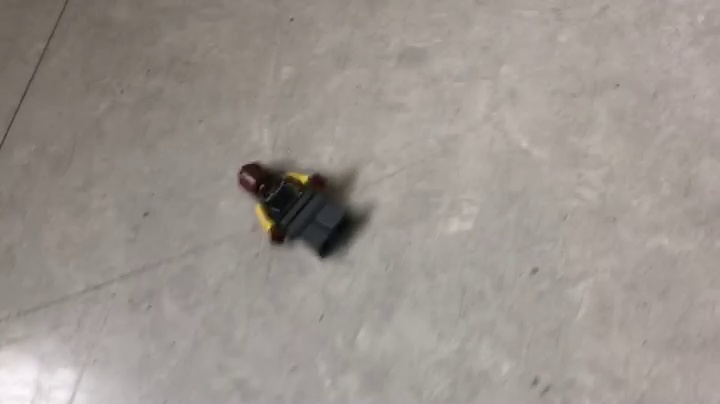people: (238, 162, 360, 262)
